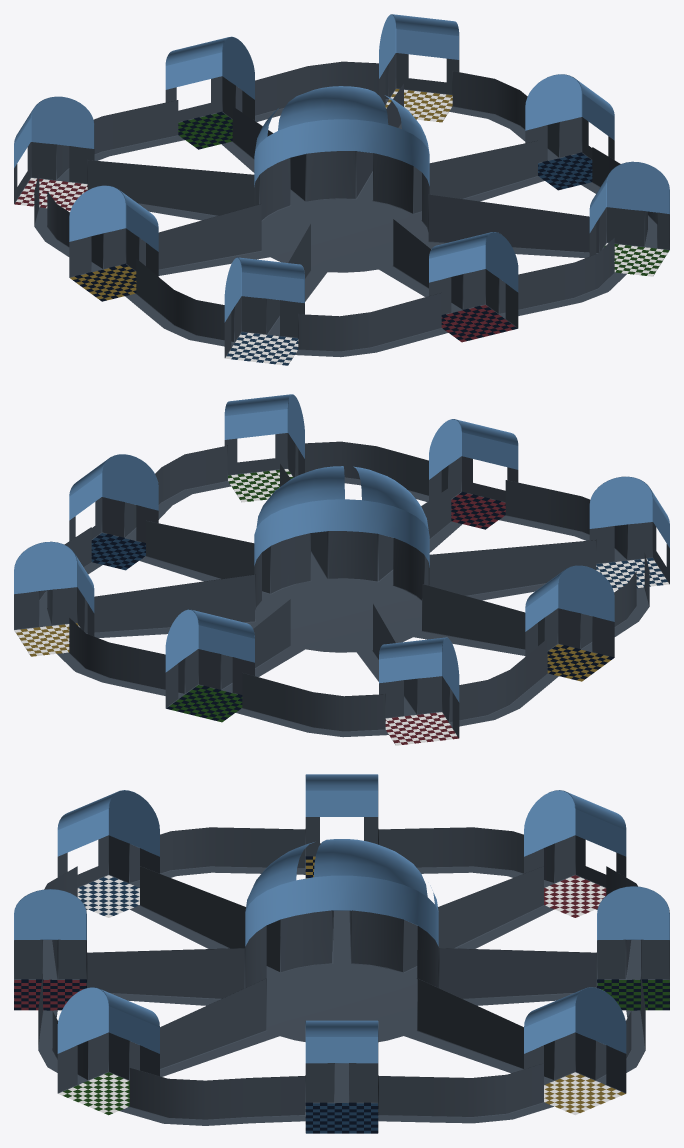
File: cool-maze-small.glb
3 renders of one model, top to bottom at view 1: azimuth 30°, elevation 25°; view 2: azimuth 150°, elevation 25°; view 3: azimuth 270°, elevation 25°, orthographic. The views are drawn at different scales.
Visible parts, largest first — view 1: rooms; view 2: rooms; view 3: rooms.
Part boxes in pixels (left/top/right/bottom): rooms: left=14, top=14, right=669, bottom=365; rooms: left=14, top=394, right=669, bottom=745; rooms: left=14, top=774, right=669, bottom=1133.
Bounding box in the file's own units: 33.75 × 8.75 × 33.75.
